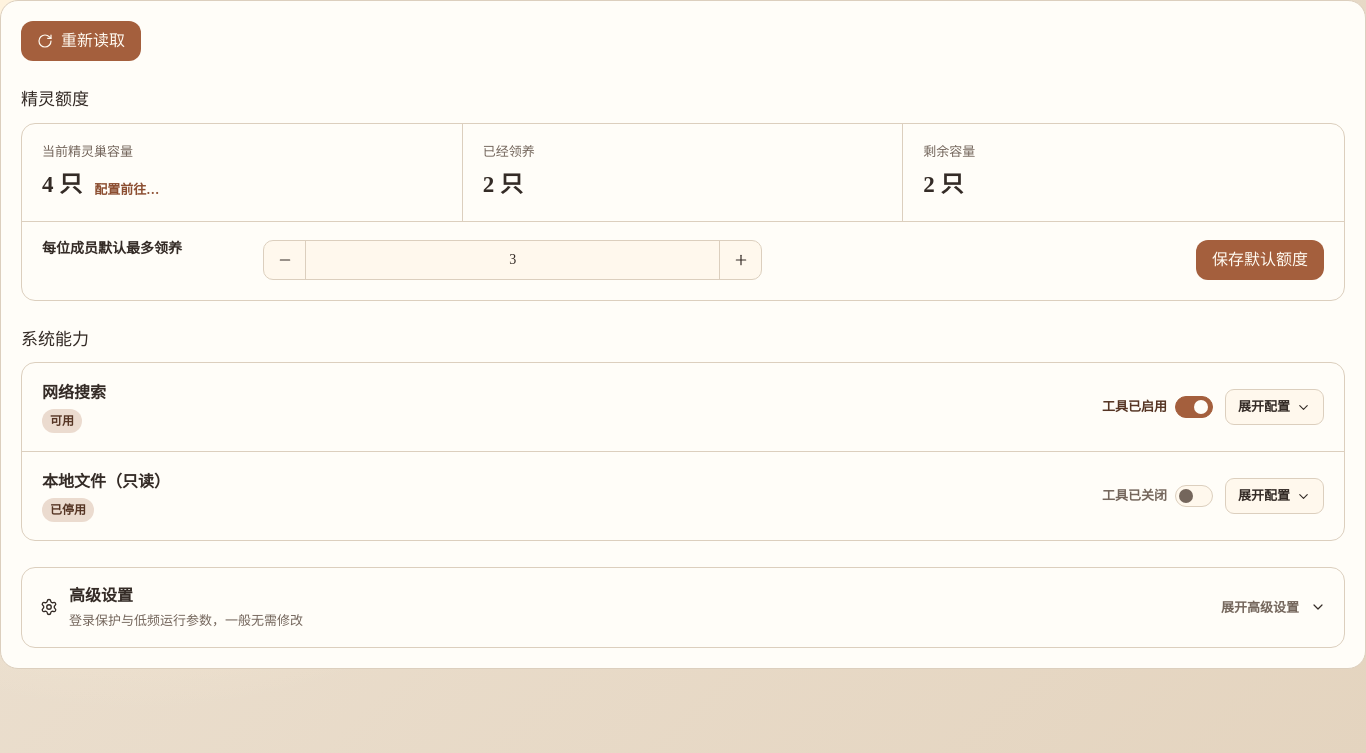
Test: SystemSettingsPanel › consolidates quota, capability configuration, and collapsed advanced settings
expect the heading "精灵额度" is shown: met, box [21, 87, 89, 112]
expect the text "4 只" is shown: met, box [42, 168, 82, 202]
Step 1. Click the button "高级设置 登录保护与低频运行参数，一般无需修改 展开高级设置" → [101, 596], box [22, 568, 1344, 646]
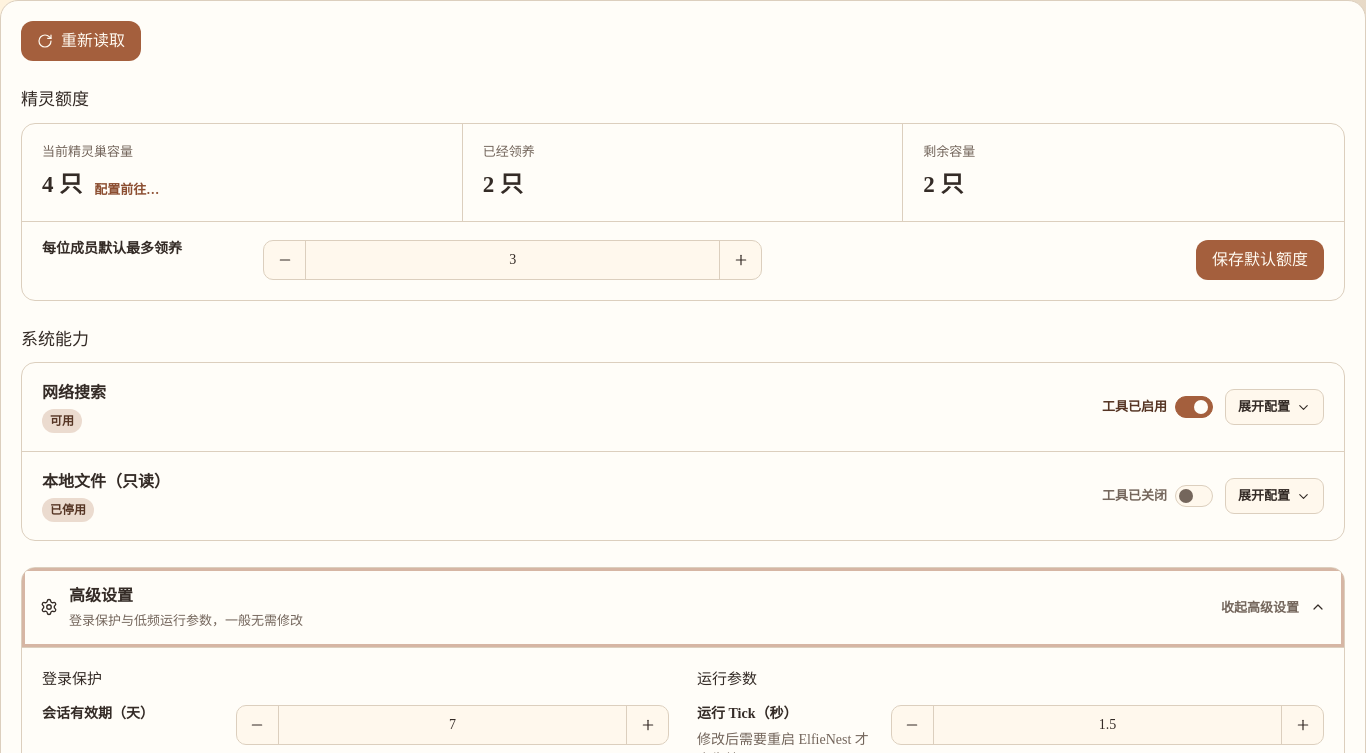
expect the text "会话有效期（天）" is shown: met, box [42, 706, 154, 721]
expect the text "运行 Tick（秒）" is shown: met, box [697, 706, 798, 721]
